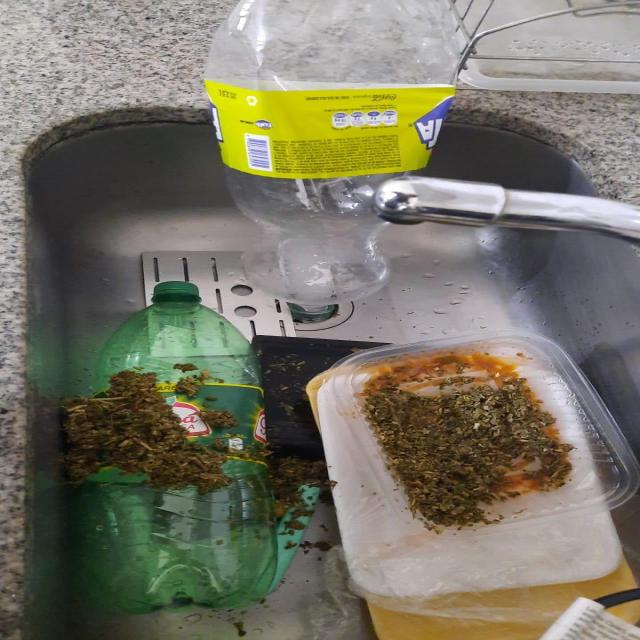bottle: (196, 0, 474, 309), (56, 278, 297, 614)
